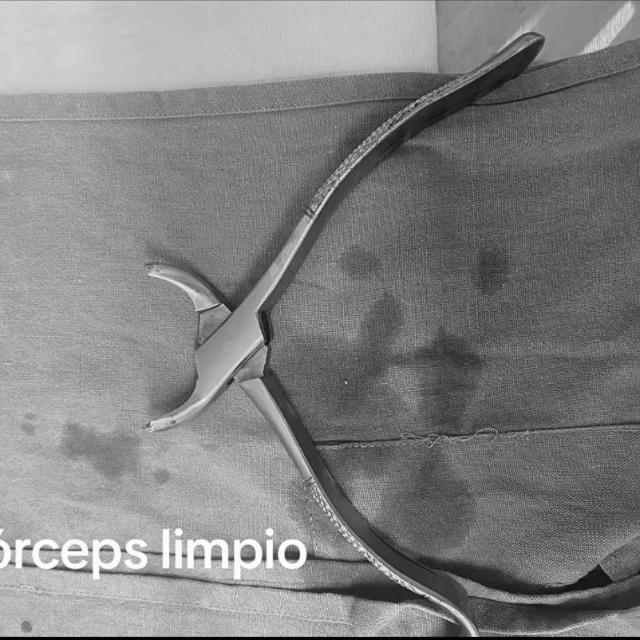forceps: (148, 34, 547, 636)
